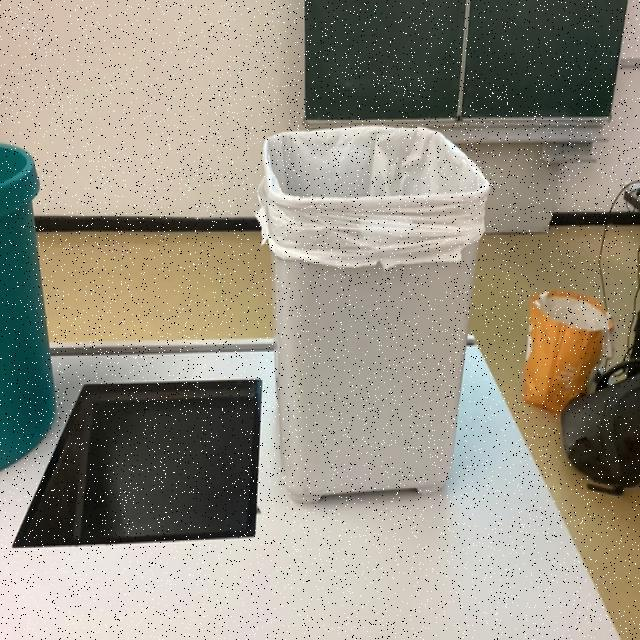garbage container: (229, 68, 515, 565), (0, 92, 59, 528)
